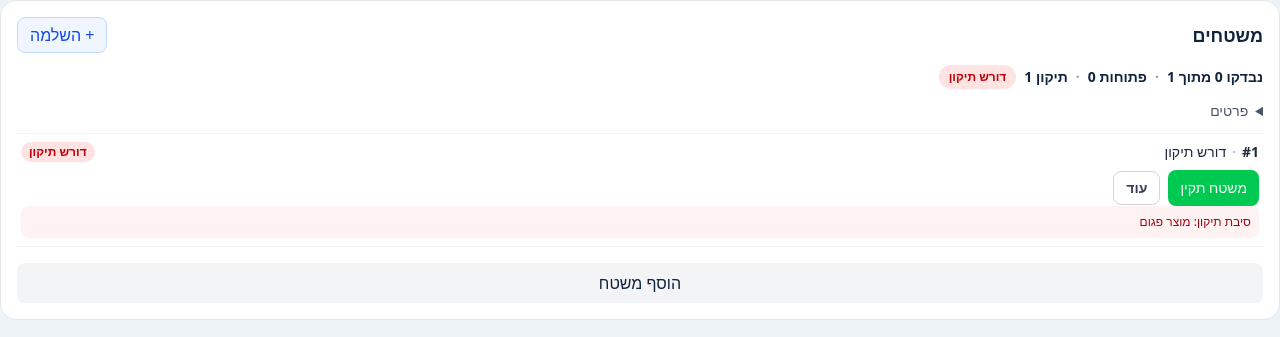
Test case: ManualOrderCheckUnitsPanel › returned -> open hides reason after server refresh
This screenshot has width=1280, height=337.
Expected: the text "סיבת תיקון: מוצר פגום" is shown, x1=1140 y1=213 x2=1251 y2=230
Step 1. Click the heading "עוד" → (1137, 188), box x1=1113 y1=171 x2=1160 y2=205
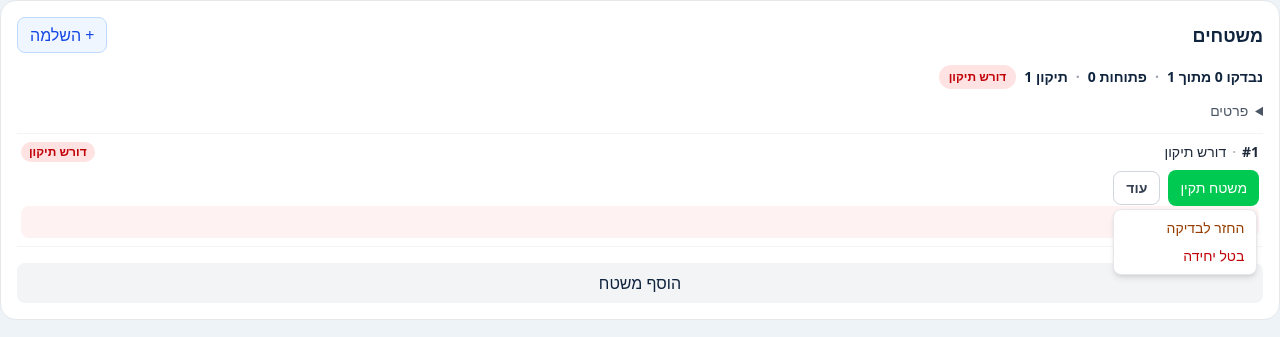
Step 2. Click the button "החזר לבדיקה" → (1185, 228), box x1=1118 y1=214 x2=1252 y2=242
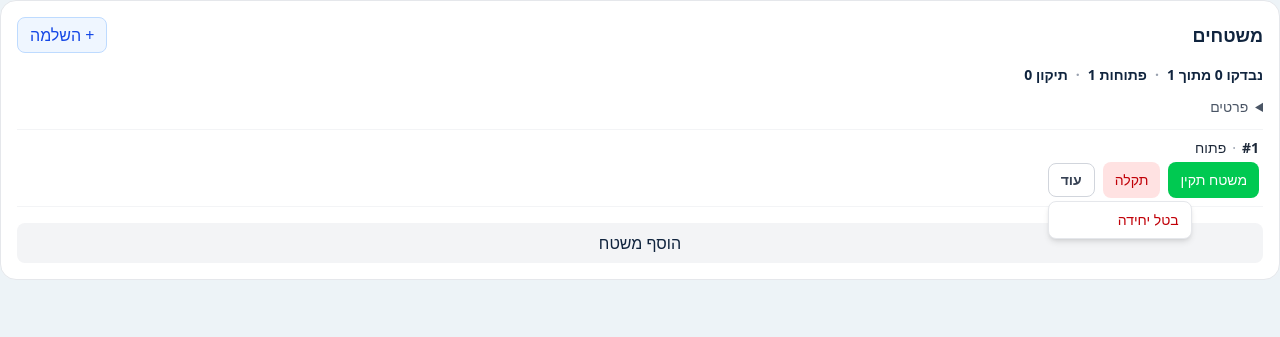
Now the text "סיבת תיקון: מוצר פגום" is gone
